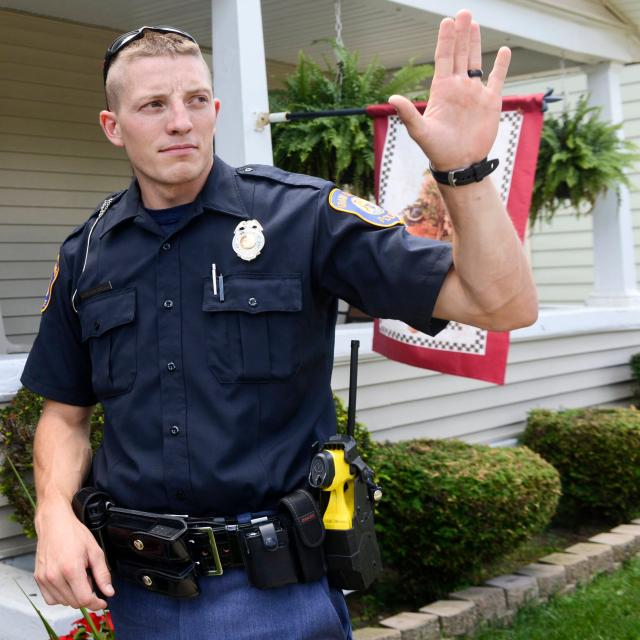police: (12, 2, 514, 640)
